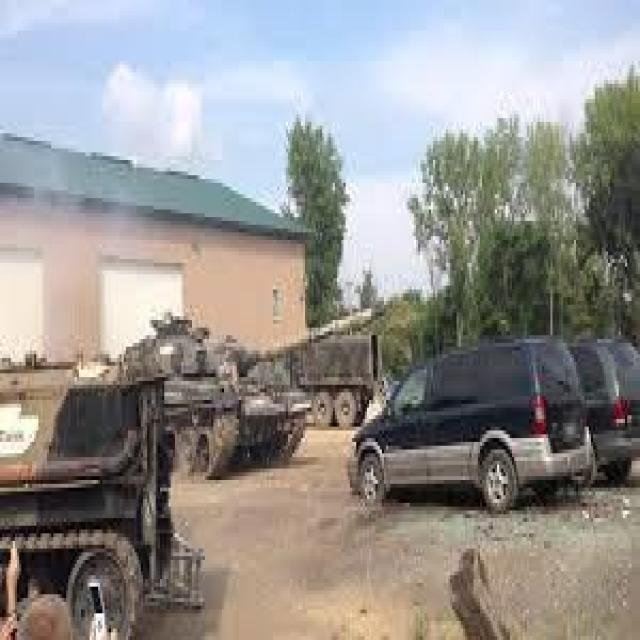Tanks: (193, 242, 421, 444), (142, 306, 315, 508)
